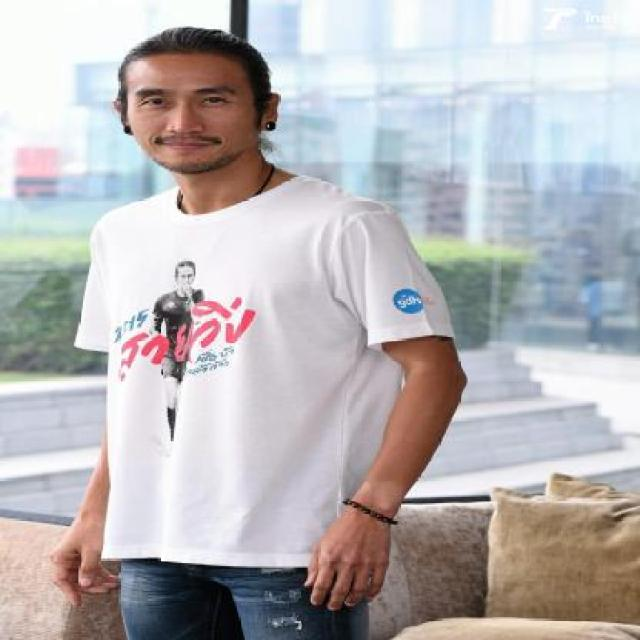sem_oculos: (107, 76, 280, 112)
